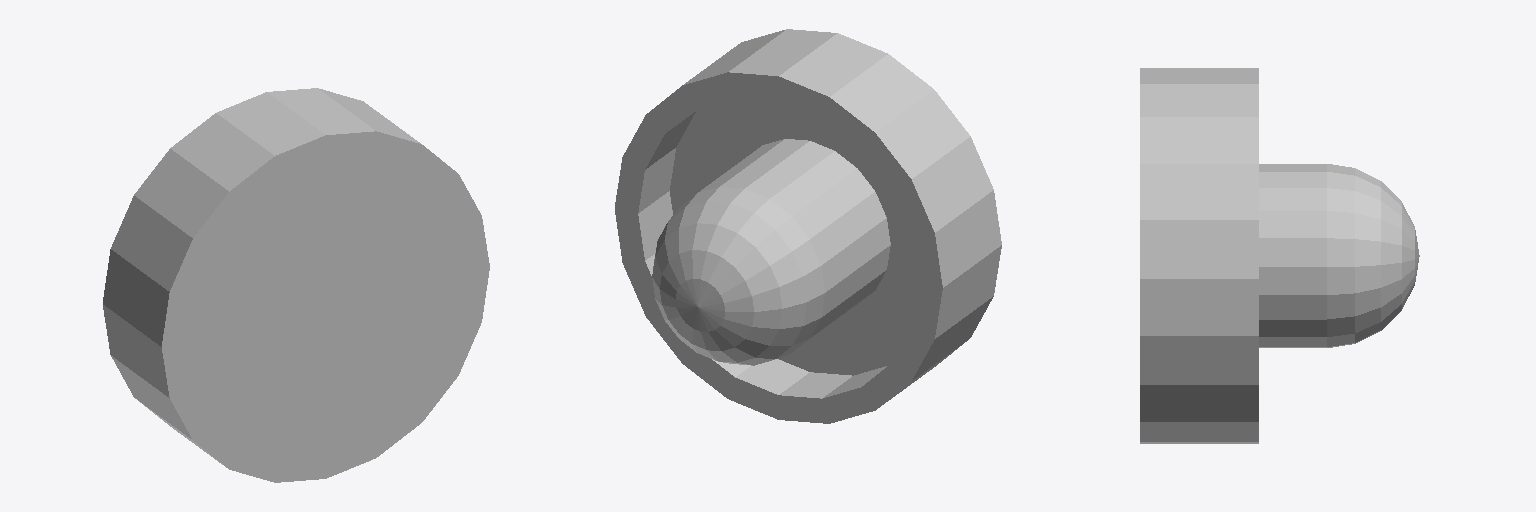
File: Paddle2.obj
The picture shows the model from 3 angles: view 1: azimuth 30°, elevation 25°; view 2: azimuth 150°, elevation 25°; view 3: azimuth 270°, elevation 25°; orthographic projection.
Parts seen in each view (by area): view 1: Paddle2; view 2: Paddle2; view 3: Paddle2.
Boxes of the visible parts, x1,y1,x2,y2 form: Paddle2: [103, 88, 489, 482]; Paddle2: [615, 29, 1001, 423]; Paddle2: [1140, 68, 1419, 443].
Size of the model in its own units: 1.83 by 1.83 by 1.35.